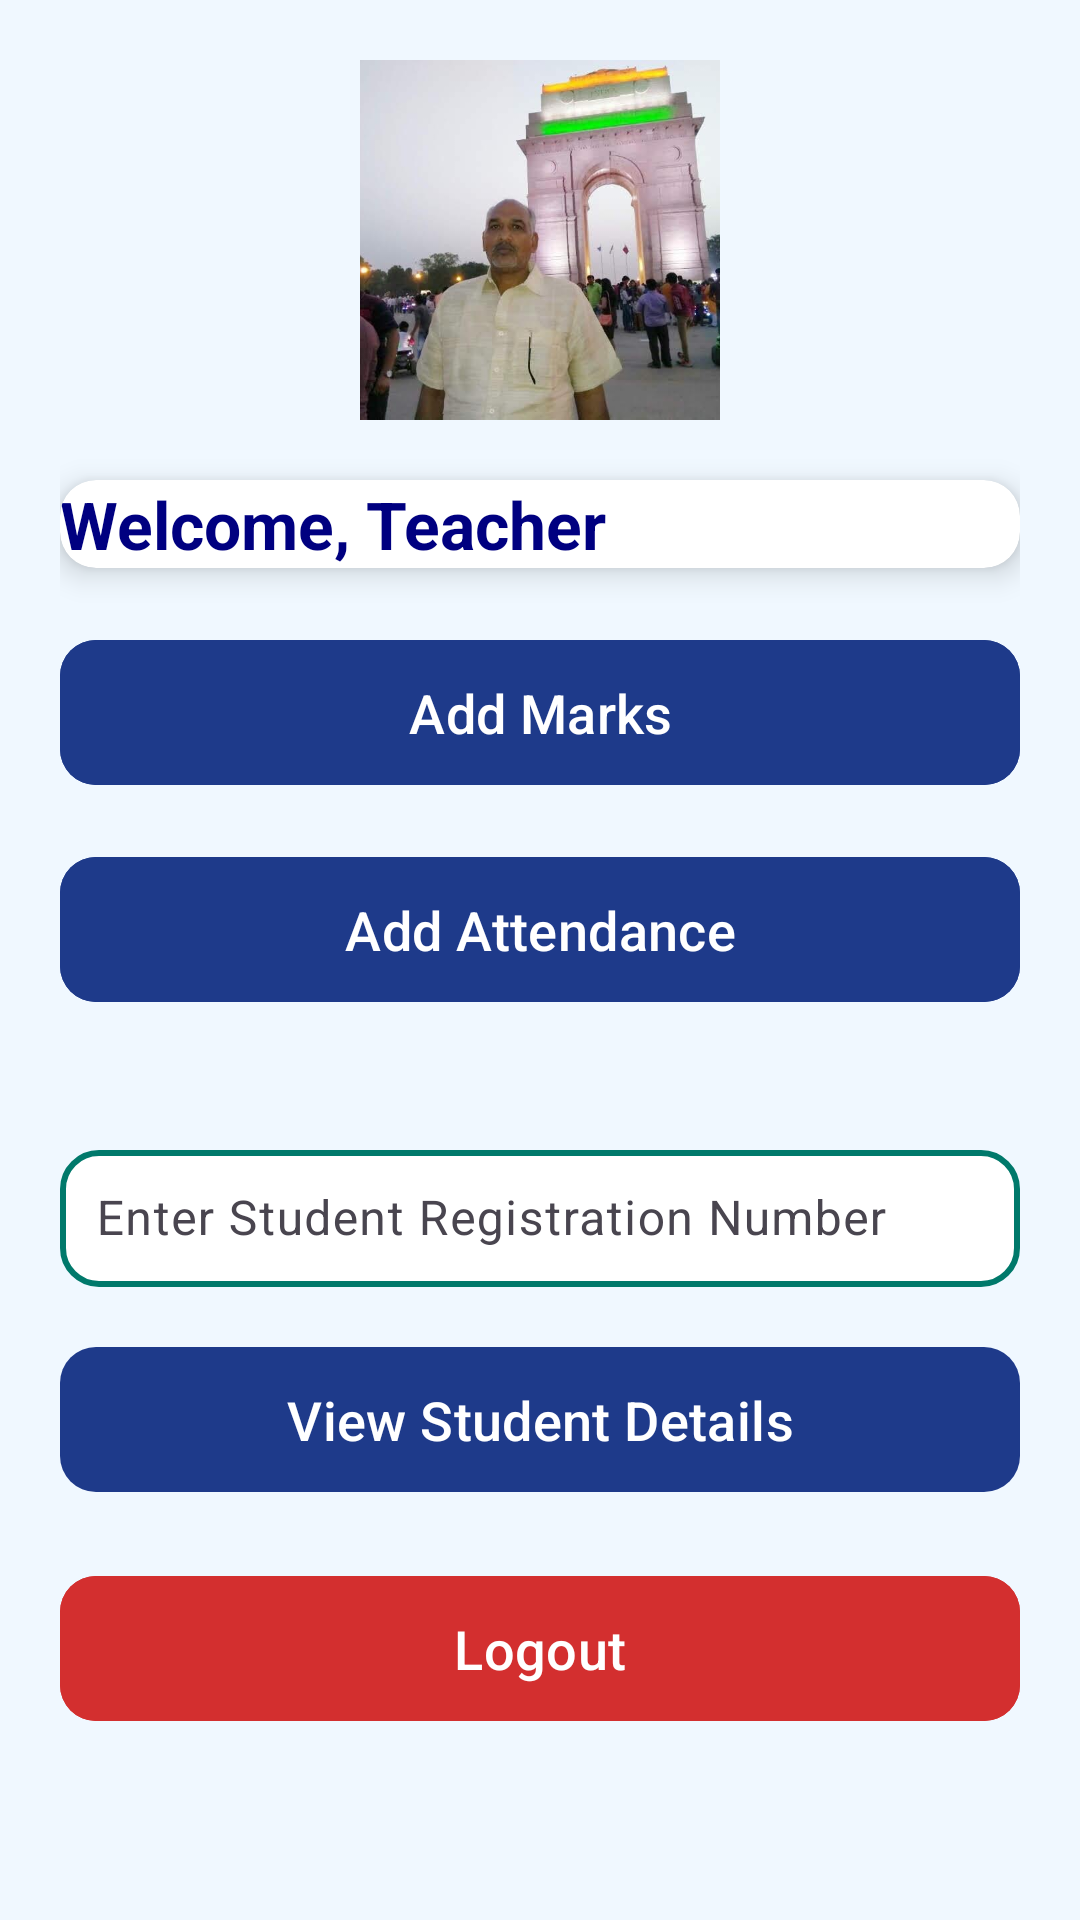

Screen size 1080px x 1920px. Icon name, then its box in pixels as (x1, y1, x2, y2):
Teacher Profile Image: (360, 60, 720, 420)
